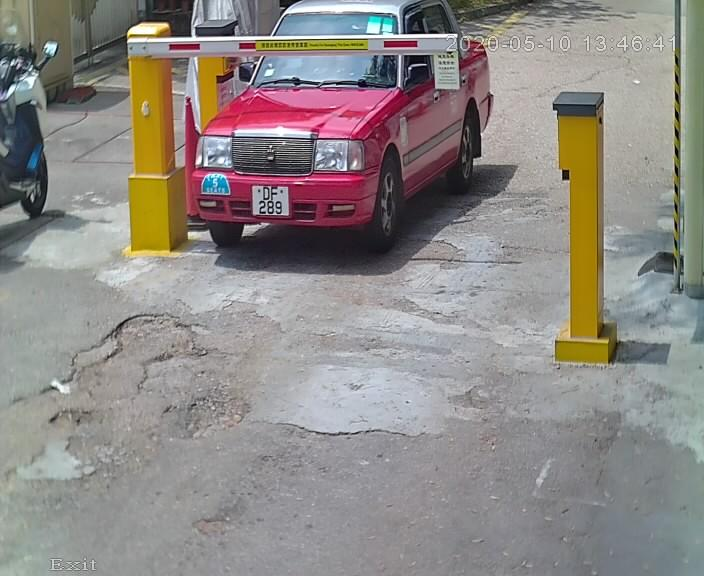Car: (173, 1, 511, 269)
License Plate: (245, 177, 295, 223)
